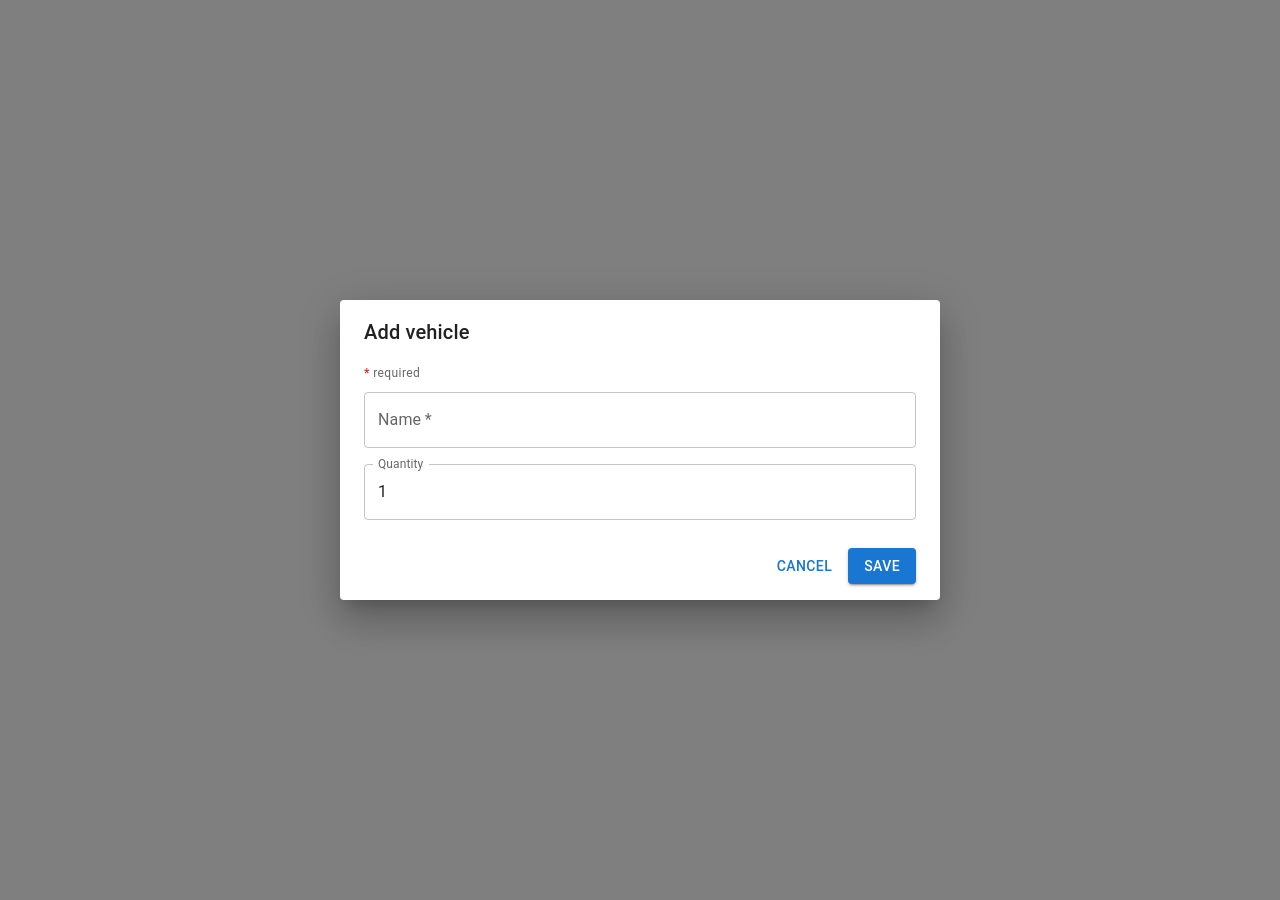
it: EntityFormDialog — dirty guard › dirty form: Cancel asks too
In the field labelled "Name *": (640, 420) x1=364 y1=392 x2=916 y2=448, type "x"
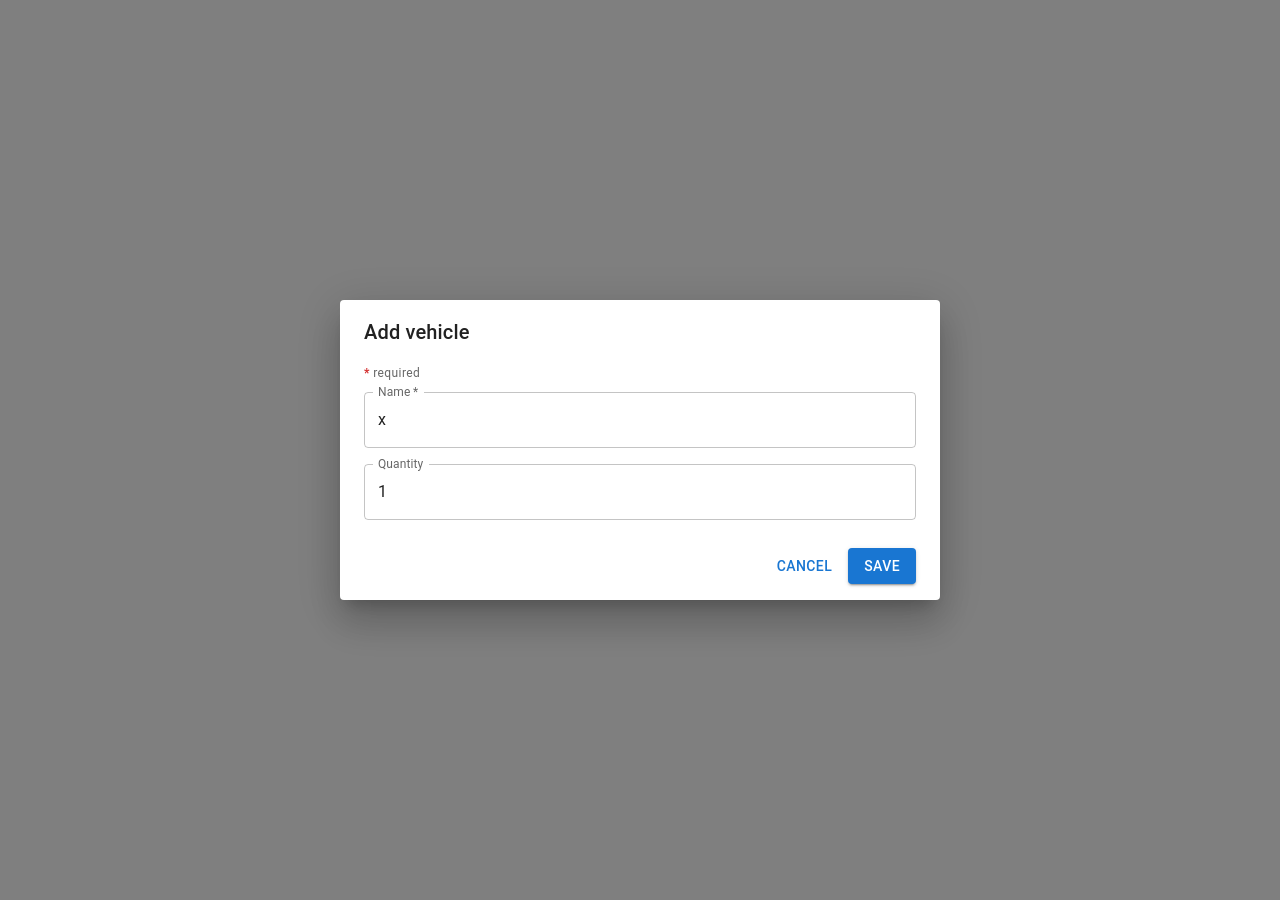
Click the button "Cancel": (804, 566) x1=769 y1=548 x2=840 y2=584
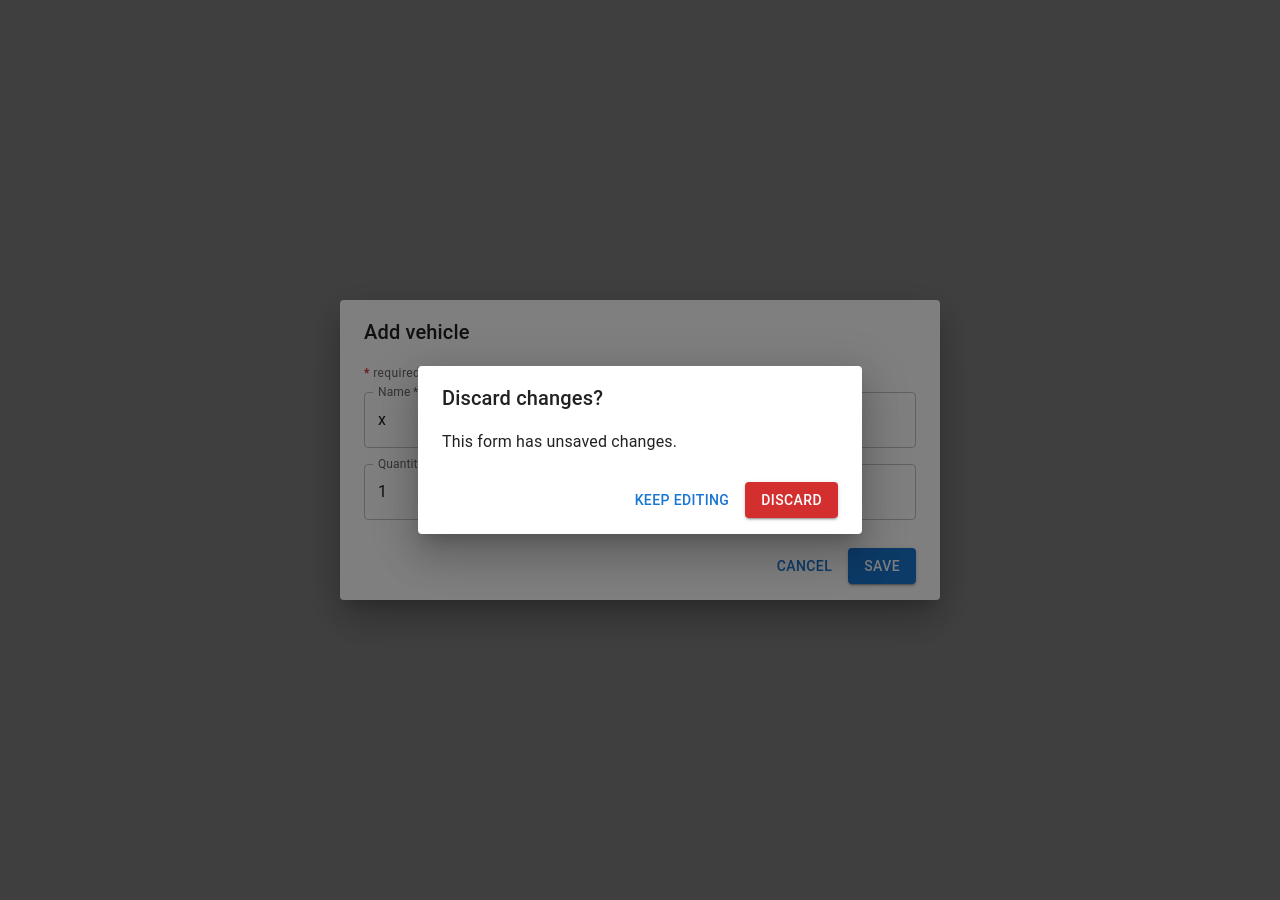
Check: the heading "Discard changes?" is shown, box x1=442 y1=386 x2=603 y2=410
